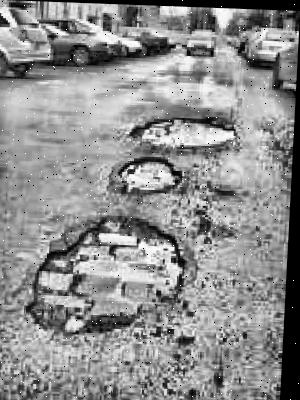pothole: (20, 207, 195, 344), (126, 112, 241, 148), (115, 156, 187, 196)
